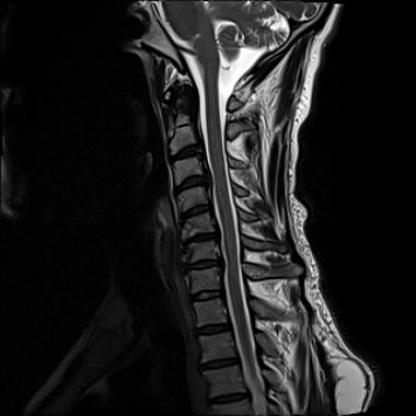Disc Bulgerotation: (173, 176, 212, 195), (180, 232, 222, 247), (167, 146, 203, 163), (178, 203, 214, 219), (183, 258, 224, 272)
Disc Protrusionrotation: (167, 145, 203, 163), (180, 231, 221, 246), (178, 203, 214, 219), (183, 258, 224, 272)
